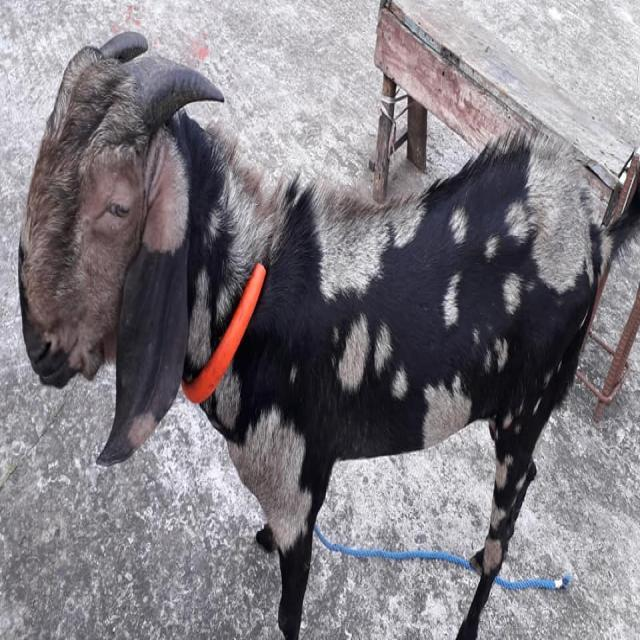Goat: (17, 27, 638, 638)
